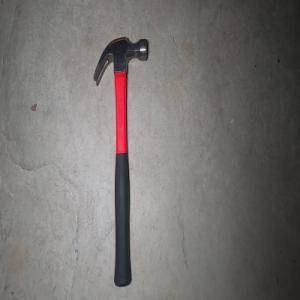Hammer: (92, 35, 147, 287)
